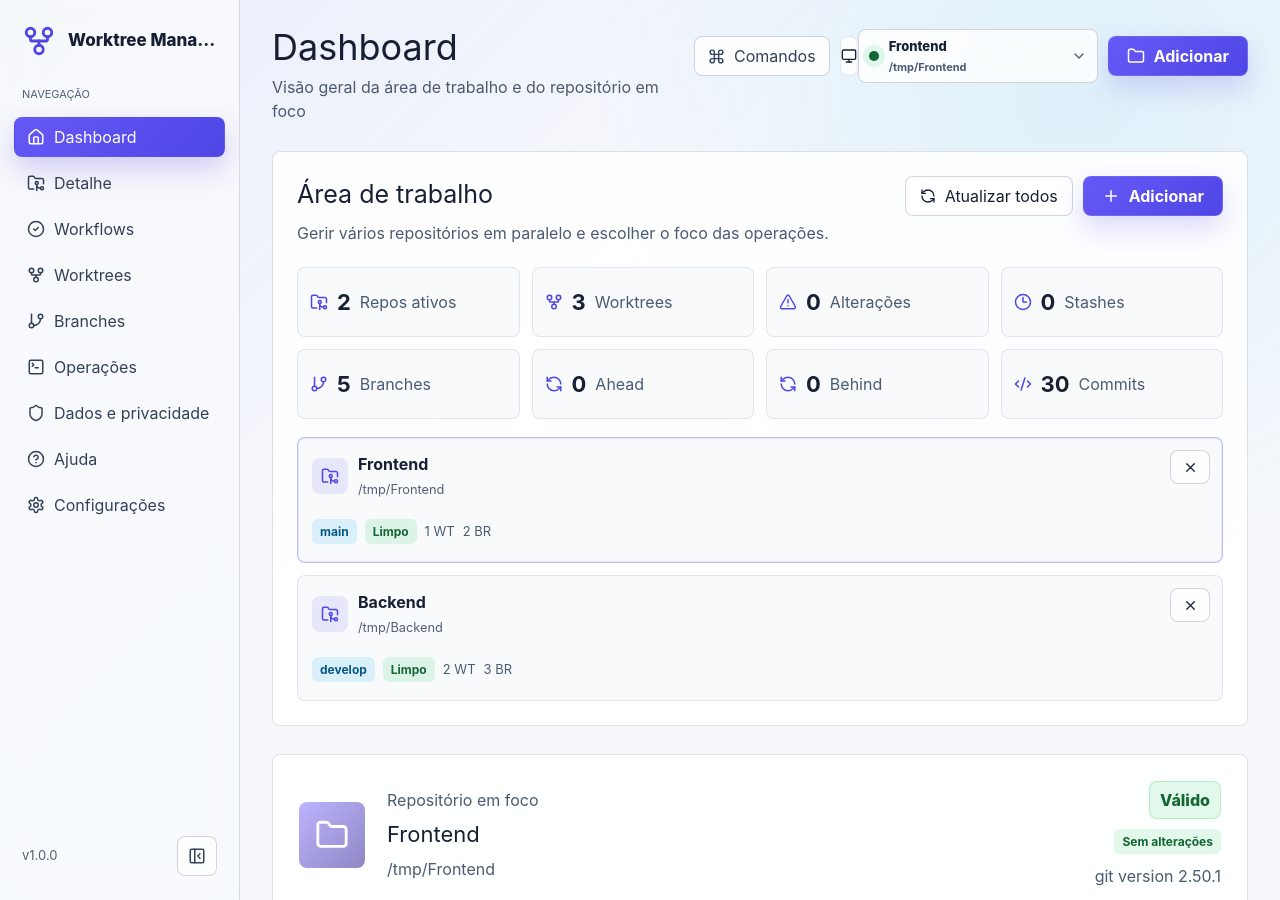
App › keeps multiple repositories active in the workspace
Check: the heading "Área de trabalho" is shown, box [297,179,493,209]
Check: the text "Repos ativos" is shown, box [360,292,456,312]
Click the button with aria-label "Escolher repositório em foco". click: point(978, 56)
box: [858,29,1098,83]
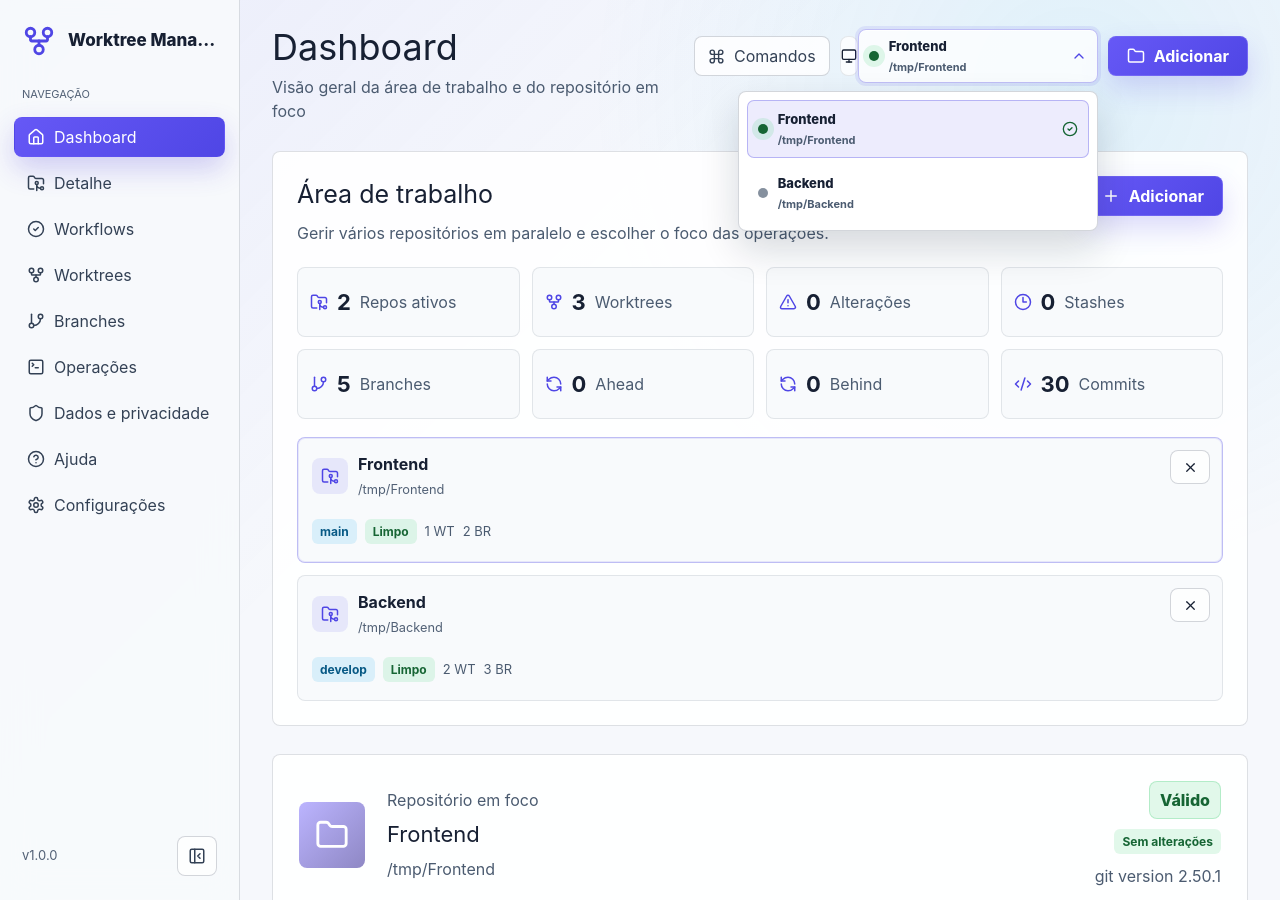
Click the option "Backend /tmp/Backend". click: point(806, 183)
box: [747,164,1089,222]
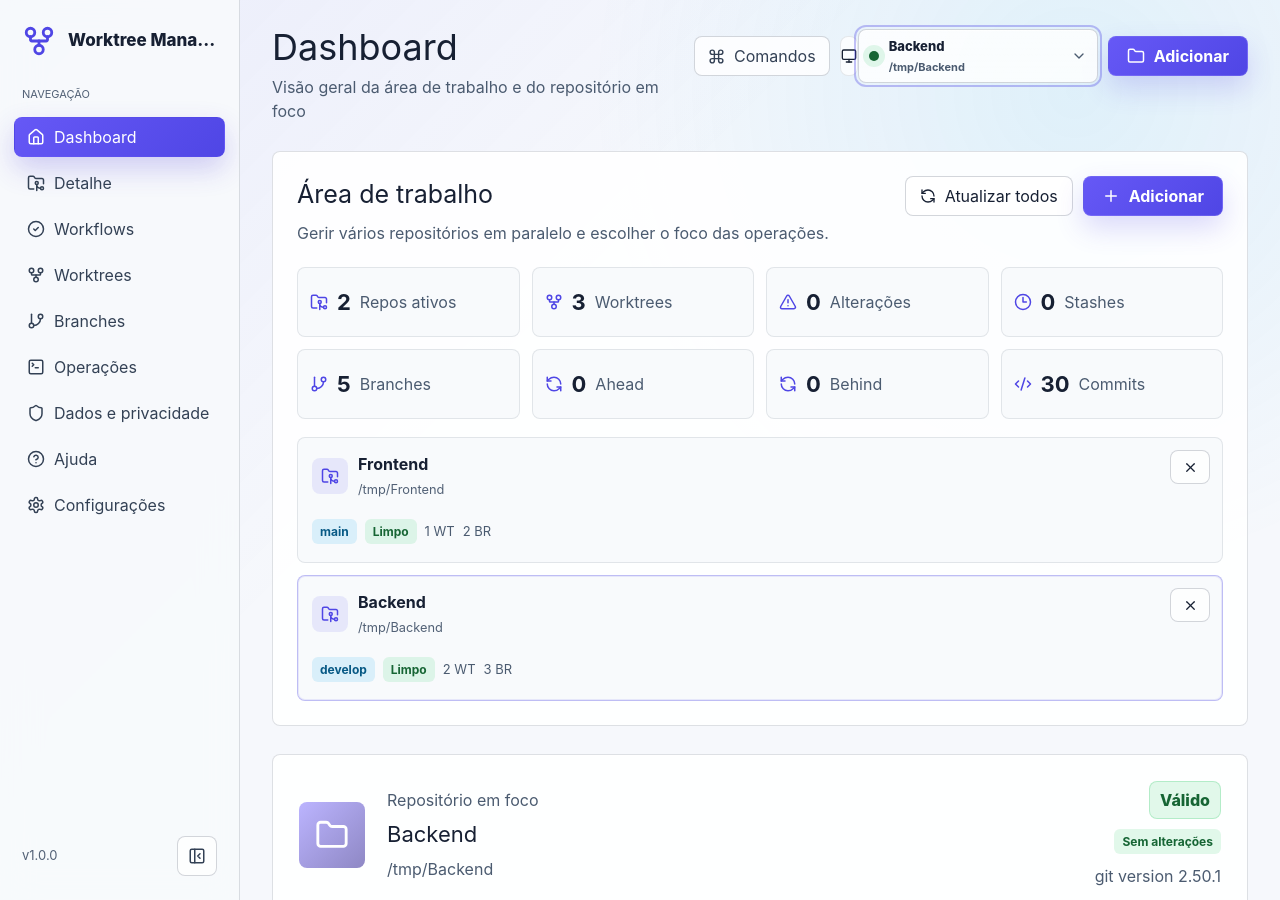
Check: the button with aria-label "Escolher repositório em foco" shows "Backend", box [858,29,1098,83]
